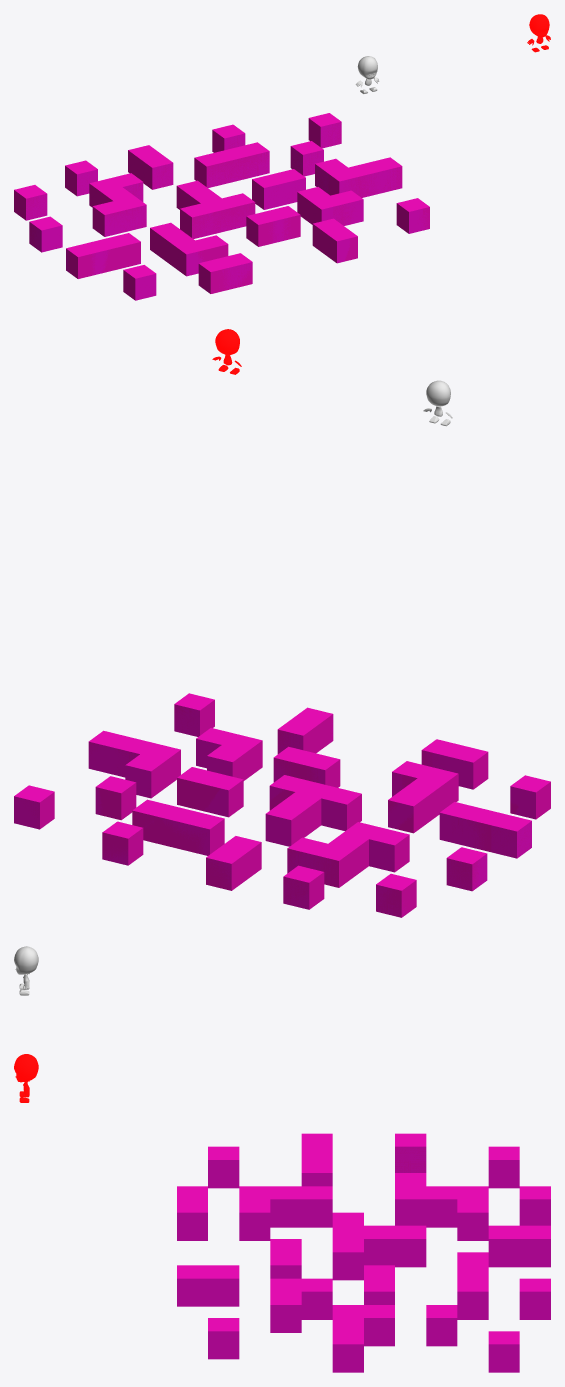
The model's file is mappa2test.fbx.
3 views of the same model, one above another, from view 1: azimuth 30°, elevation 25°; view 2: azimuth 150°, elevation 25°; view 3: azimuth 270°, elevation 25° (orthographic). The views are drawn at different scales.
Parts seen in each view (by area): view 1: Cube__40_, Cube__33_, Cube__9_, Cube__25_, Cube__4_, Cube__5_, Cube__44_, Cube, Cube__27_, Cube__6_, Cube__14_, wall__14_ (+53 smaller); view 2: Cube__2_, Cube__5_, Cube__6_, Cube__1_, Cube__3_, Cube__10_, Cube__15_, Cube__9_, wall__15_, Cube__29_, Cube__36_, Cube__28_ (+35 smaller); view 3: Cube__15_, wall__2_, wall__9_, wall__11_, wall__18_, wall__19_, wall__37_, wall, wall__5_, wall__6_, wall__8_, wall__21_ (+18 smaller).
Boxes of the visible parts, left/top/right/bottom form: Cube__40_: left=198, top=258, right=231, bottom=293; Cube__33_: left=180, top=203, right=212, bottom=238; Cube__9_: left=194, top=152, right=227, bottom=187; Cube__25_: left=246, top=211, right=278, bottom=246; Cube__4_: left=140, top=154, right=173, bottom=189; Cube__5_: left=14, top=185, right=47, bottom=220; Cube__44_: left=66, top=243, right=98, bottom=278; Cube: left=308, top=113, right=341, bottom=148; Cube__27_: left=324, top=227, right=357, bottom=262; Cube__6_: left=290, top=141, right=323, bottom=176; Cube__14_: left=92, top=201, right=125, bottom=236; wall__14_: left=29, top=222, right=62, bottom=252; Cube__2_: left=206, top=847, right=246, bottom=890; Cube__5_: left=376, top=873, right=416, bottom=917; Cube__6_: left=96, top=776, right=136, bottom=820; Cube__1_: left=102, top=821, right=143, bottom=865; Cube__3_: left=283, top=865, right=324, bottom=909; Cube__10_: left=313, top=844, right=353, bottom=887; Cube__15_: left=446, top=847, right=486, bottom=890; Cube__9_: left=184, top=812, right=224, bottom=854; wall__15_: left=491, top=821, right=531, bottom=858; Cube__29_: left=203, top=773, right=243, bottom=816; Cube__36_: left=388, top=789, right=428, bottom=833; Cube__28_: left=177, top=767, right=217, bottom=810; Cube__15_: left=395, top=1133, right=426, bottom=1172; wall__2_: left=457, top=1291, right=488, bottom=1319; wall__9_: left=457, top=1212, right=488, bottom=1240; wall__11_: left=426, top=1199, right=457, bottom=1227; wall__18_: left=301, top=1199, right=332, bottom=1227; wall__19_: left=270, top=1199, right=301, bottom=1227; wall__37_: left=332, top=1344, right=363, bottom=1372; wall: left=488, top=1344, right=519, bottom=1372; wall__5_: left=488, top=1239, right=519, bottom=1267; wall__6_: left=519, top=1239, right=550, bottom=1267; wall__8_: left=488, top=1160, right=519, bottom=1188; wall__21_: left=239, top=1212, right=270, bottom=1240.
Bounding box in the file's own units: 1741 × 1163 × 1722.
